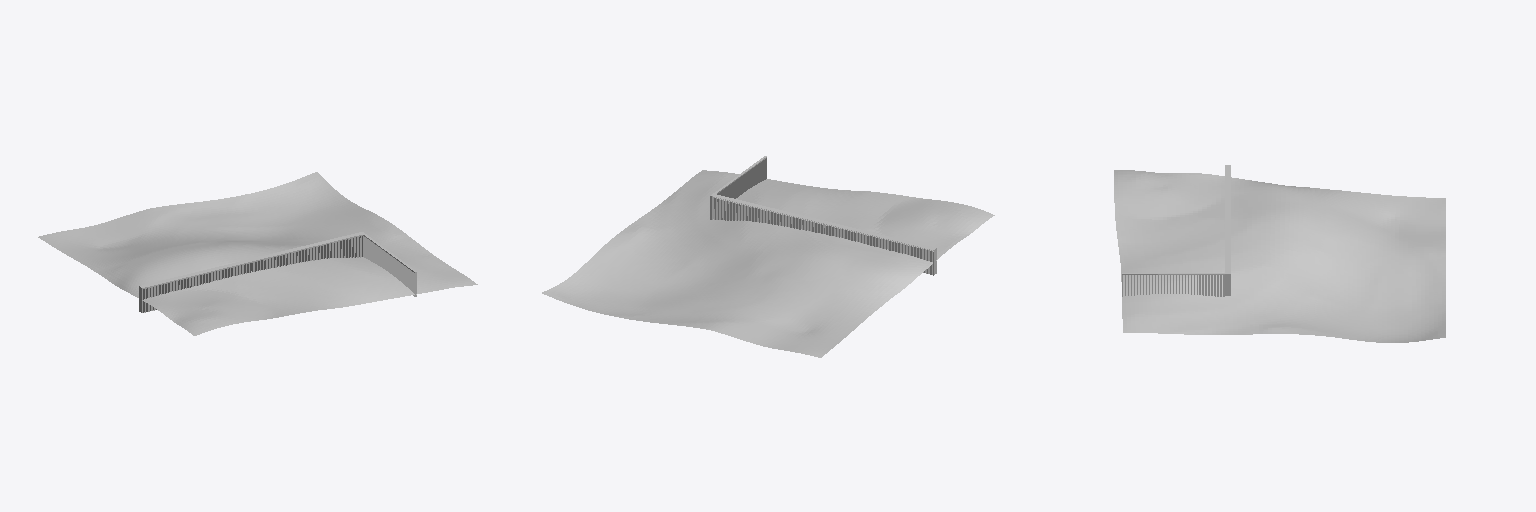
The model's file is cemetery_env.obj.
3 renders of one model, left to right at view 1: azimuth 30°, elevation 25°; view 2: azimuth 150°, elevation 25°; view 3: azimuth 270°, elevation 25°, orthographic.
Parts seen in each view (by area): view 1: Plane, Cube_Cube.001; view 2: Plane, Cube_Cube.001; view 3: Plane, Cube_Cube.001.
Boxes of the visible parts, x1,y1,x2,y2 form: Plane: [38, 172, 477, 335]; Cube_Cube.001: [139, 232, 416, 312]; Plane: [542, 170, 994, 357]; Cube_Cube.001: [710, 156, 936, 275]; Plane: [1114, 170, 1445, 342]; Cube_Cube.001: [1122, 165, 1230, 296].
Size of the model in its own units: 77.42 by 11.43 by 77.31.